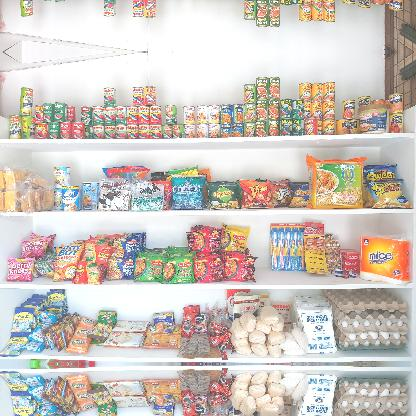Lady-s-Choice: (356, 104, 390, 132)
